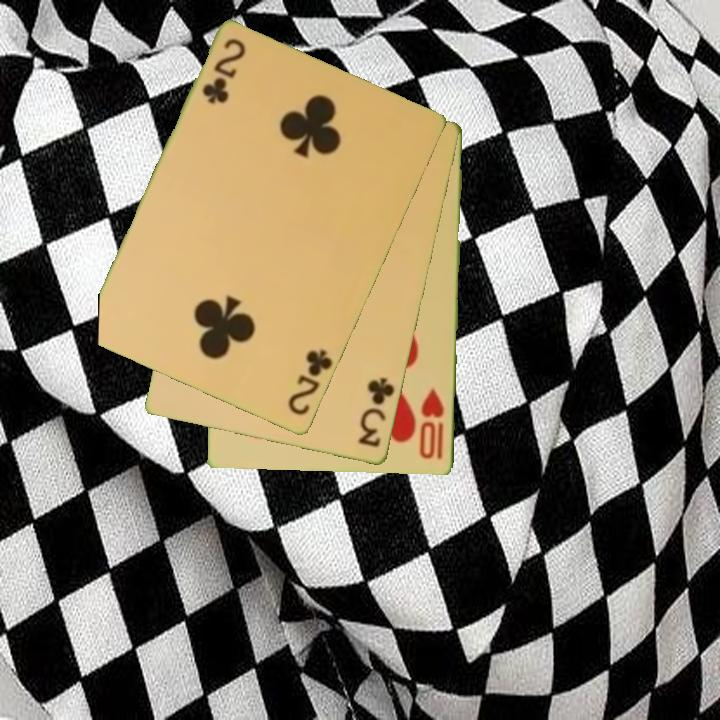10h: (416, 385, 448, 462)
2c: (284, 346, 336, 419), (198, 35, 249, 108)
3c: (355, 374, 398, 451)
